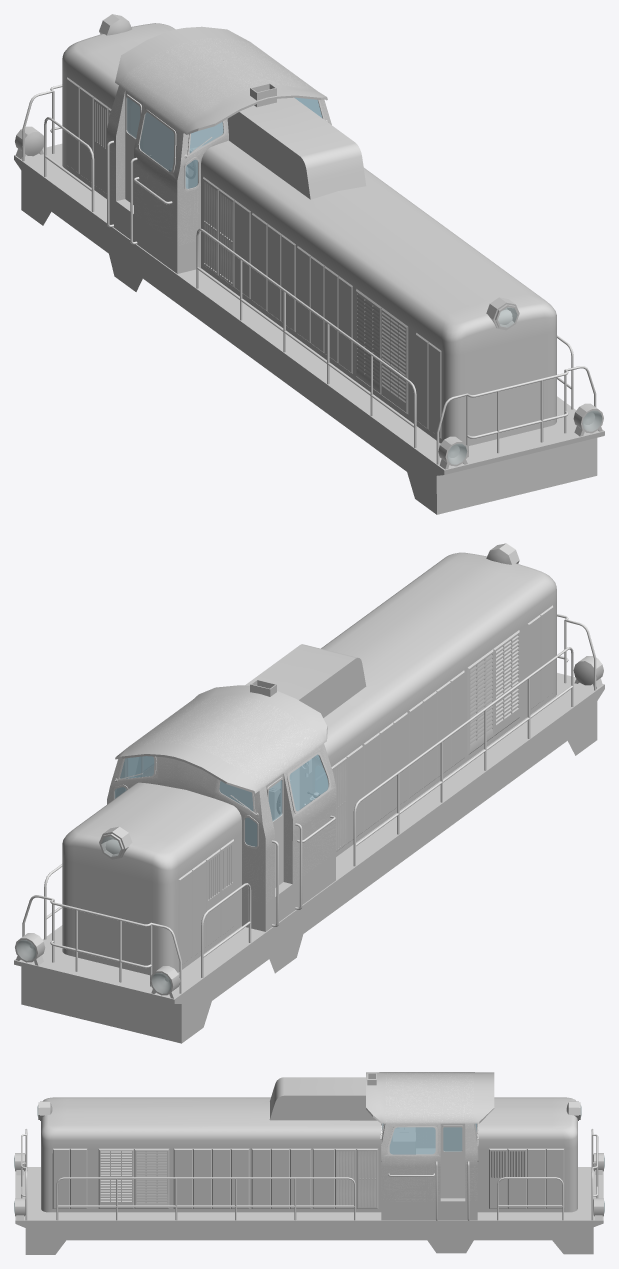
The picture shows the model from 3 angles, top to bottom: view 1: azimuth 30°, elevation 25°; view 2: azimuth 150°, elevation 25°; view 3: azimuth 270°, elevation 25°; orthographic projection. The views are drawn at different scales.
Parts seen in each view (by area): view 1: Body, CabInterior, LongRailing, FrontRailing, RightWindow, ReflectorGlasses, WindowFrames, ShortRailing; view 2: Body, CabInterior, LongRailing, FrontRailing, RightWindow, Desk, ShortRailing, WindowFrames, ReflectorGlasses, RearLeftTopWindow; view 3: Body, CabInterior, LongRailing, LeftDoor, LeftWindow, FrontRailing, Desk, InnerLeftDoor, LeftDoorWindow, WindowFrames, ShortRailing, RightDoor.
Boxes of the visible parts, <box> form: Body: <box>14,14,604,514</box>; CabInterior: <box>107,38,330,245</box>; LongRailing: <box>196,228,573,447</box>; FrontRailing: <box>22,84,596,464</box>; RightWindow: <box>139,112,174,171</box>; ReflectorGlasses: <box>447,307,601,464</box>; WindowFrames: <box>137,100,324,191</box>; ShortRailing: <box>44,117,94,211</box>; Body: <box>14,543,604,1043</box>; CabInterior: <box>107,696,336,903</box>; LongRailing: <box>353,647,573,866</box>; FrontRailing: <box>22,614,596,993</box>; RightWindow: <box>289,754,328,811</box>; Desk: <box>219,768,299,846</box>; ShortRailing: <box>44,864,251,977</box>; WindowFrames: <box>113,752,330,849</box>; ReflectorGlasses: <box>16,836,171,993</box>; RearLeftTopWindow: <box>120,756,154,778</box>; Body: <box>15,1072,603,1254</box>; CabInterior: <box>381,1072,477,1201</box>; LongRailing: <box>56,1177,355,1220</box>; LeftDoor: <box>440,1123,465,1198</box>; LeftWindow: <box>389,1127,435,1154</box>; FrontRailing: <box>21,1129,598,1220</box>; Desk: <box>382,1124,415,1154</box>; InnerLeftDoor: <box>440,1123,465,1197</box>; LeftDoorWindow: <box>443,1127,462,1151</box>; WindowFrames: <box>381,1123,478,1161</box>; ShortRailing: <box>497,1177,563,1220</box>; RightDoor: <box>443,1128,461,1150</box>.
Bounding box in the file's own units: 315 × 389 × 1377.
